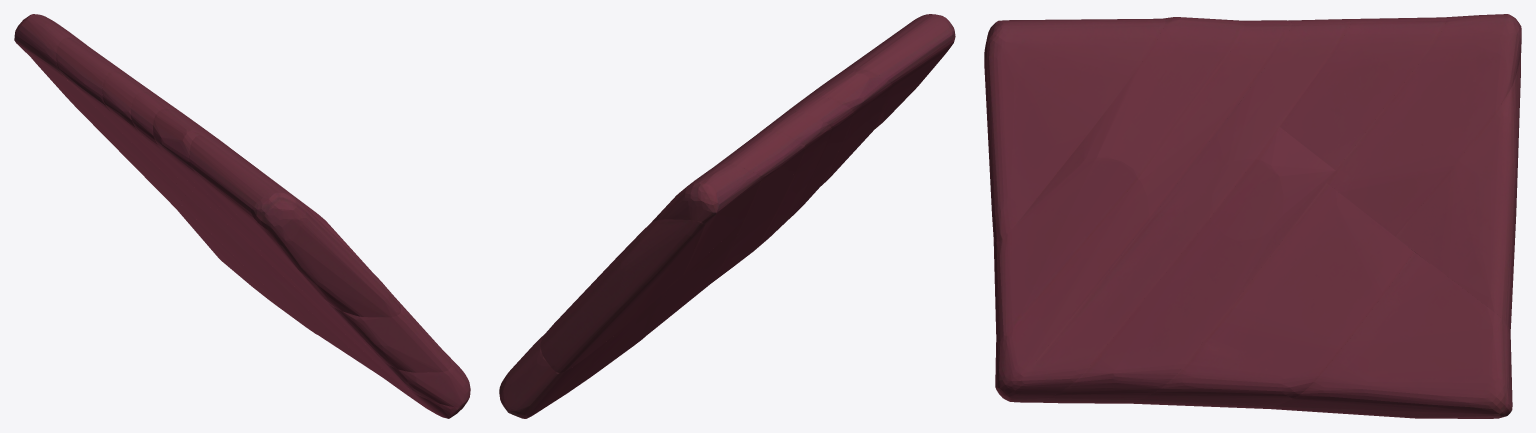
File: hunyuan_recon.glb
3 renders of one model, left to right at view 1: azimuth 30°, elevation 25°; view 2: azimuth 150°, elevation 25°; view 3: azimuth 270°, elevation 25°, orthographic. The views are drawn at different scales.
Parts seen in each view (by area): view 1: world; view 2: world; view 3: world.
Boxes of the visible parts, bbox=[...] form: world: bbox=[14, 14, 470, 418]; world: bbox=[499, 14, 955, 418]; world: bbox=[984, 14, 1521, 418].
Size of the model in its own units: 0.0441 by 0.0533 by 0.0847.
1 material, 1 textured.
